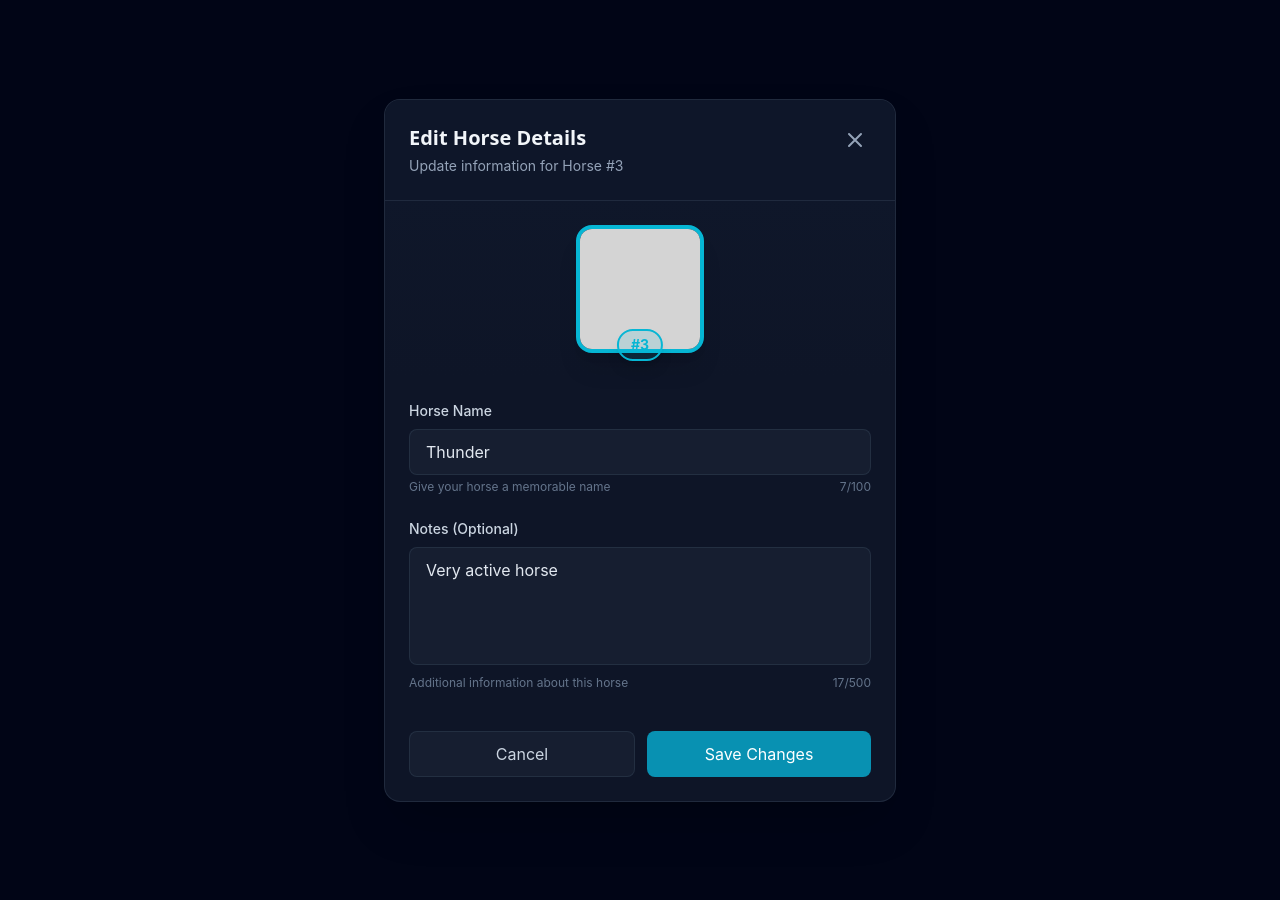
Test: HorseEditModal › Form Validation › should show error when name is empty
The image size is (1280, 900).
Clear the field labelled "Horse Name". click: (640, 452)
box: [409,428,871,474]
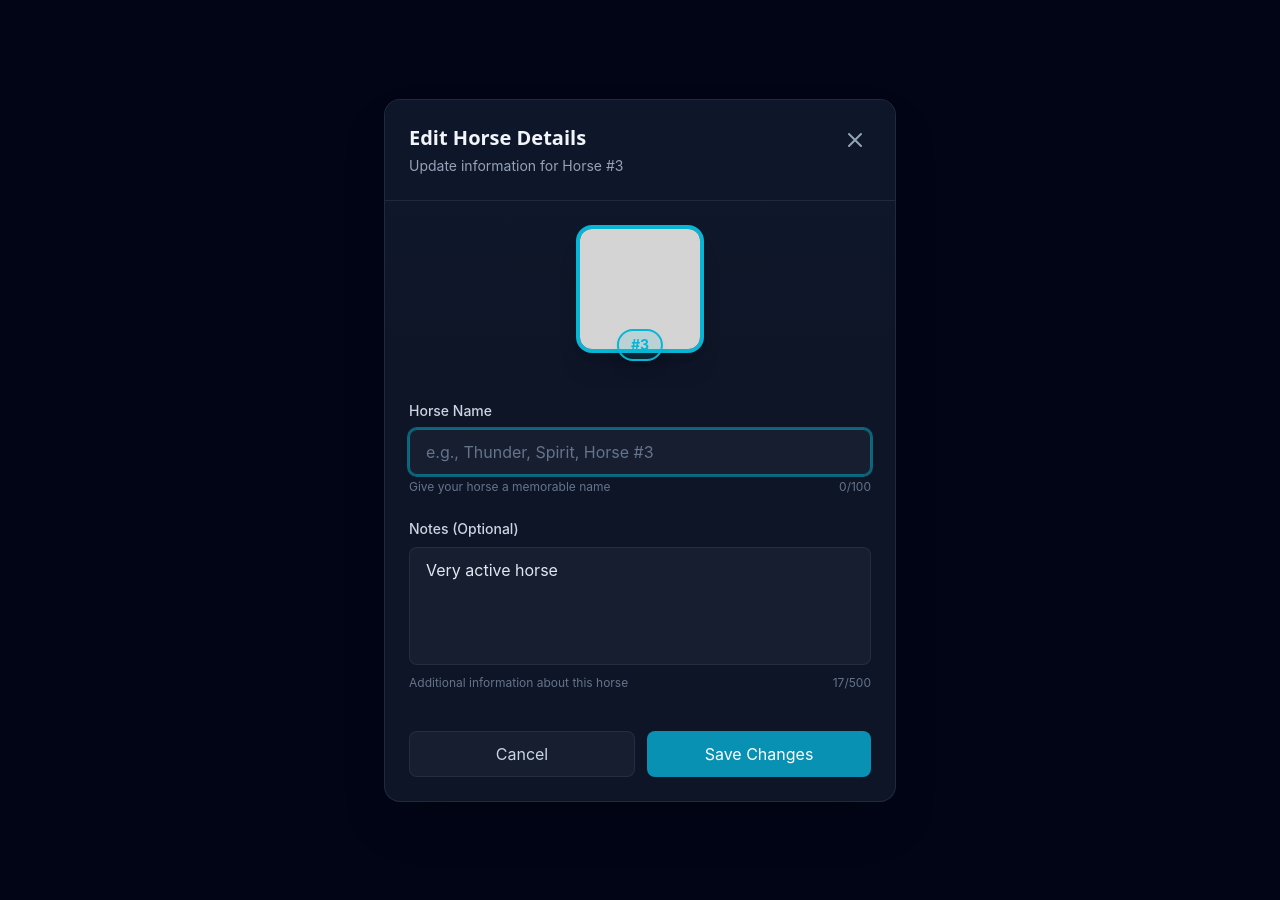
Click the button "Save Changes". click: (759, 754)
box: [647,730,871,776]
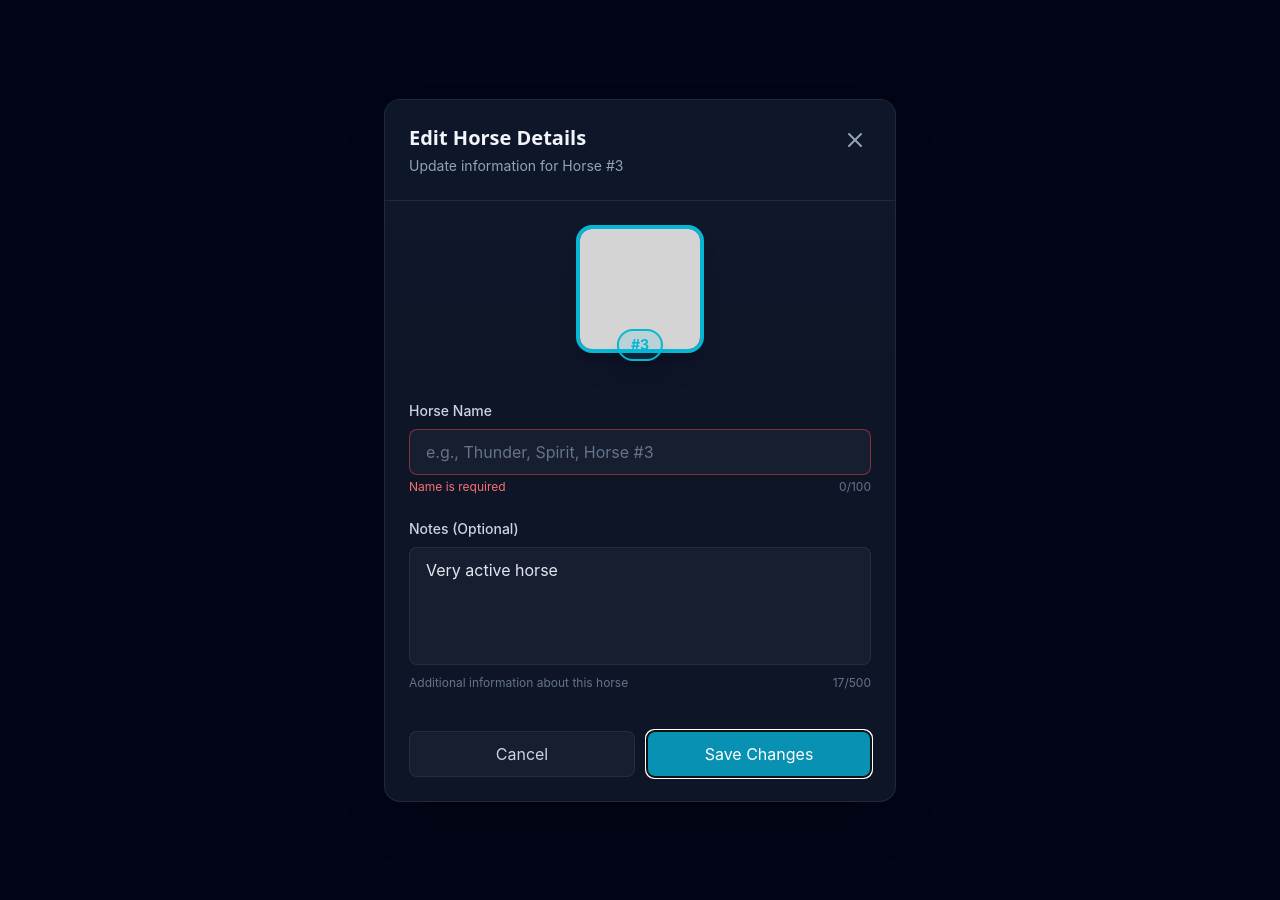
Now the text "Name is required" is shown, box [409,478,506,494]
